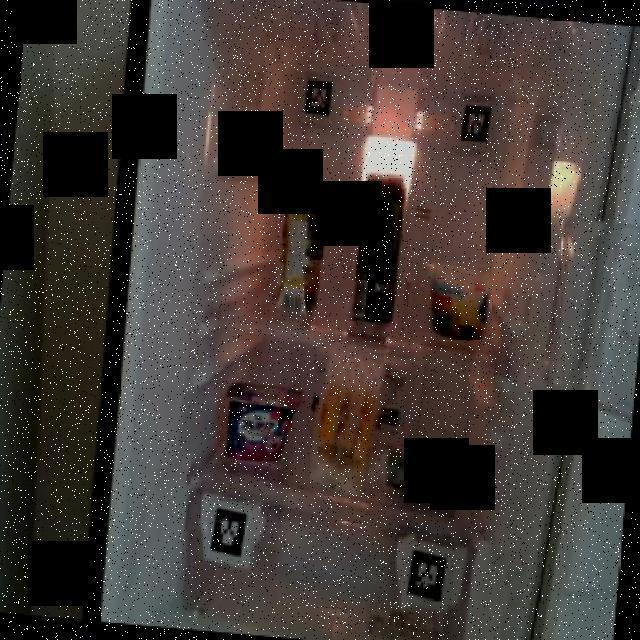can: (345, 169, 407, 329)
pudding: (420, 257, 492, 340)
rice_ball: (376, 438, 472, 504)
sandwich: (310, 347, 384, 496)
smoothie: (270, 173, 332, 318)
yogurt: (217, 378, 306, 468)
